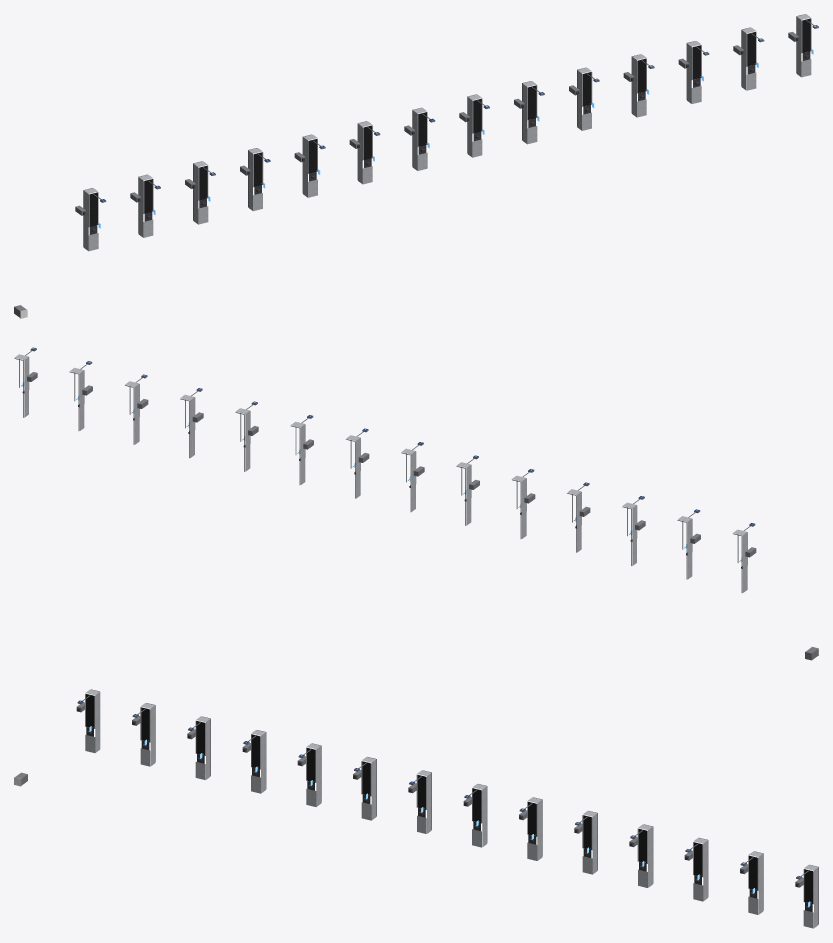
Rendered from front_checkouts.gltf.
The picture shows the model from 3 angles, top to bottom: view 1: azimuth 30°, elevation 25°; view 2: azimuth 150°, elevation 25°; view 3: azimuth 330°, elevation 25°; orthographic projection.
Visible parts, largest first — view 1: front_checkouts; view 2: front_checkouts; view 3: front_checkouts.
Part boxes in pixels (x1,y1,x2,y2): front_checkouts: [14, 14, 818, 318]; front_checkouts: [14, 347, 818, 660]; front_checkouts: [14, 689, 818, 928].
Size of the model in its own units: 72.23 by 9.33 by 2.56.
20 materials, 16 textured.
